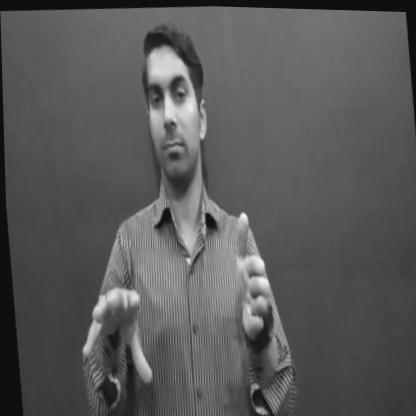Expensive: (72, 198, 278, 416)
